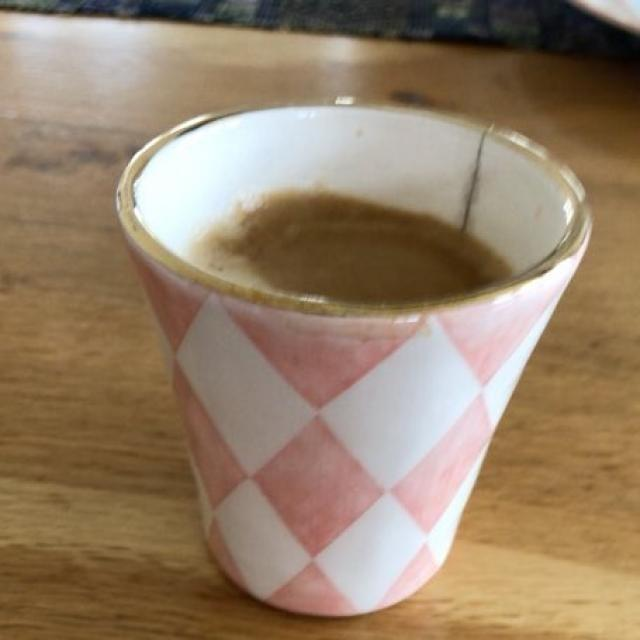espresso: (185, 189, 508, 303)
